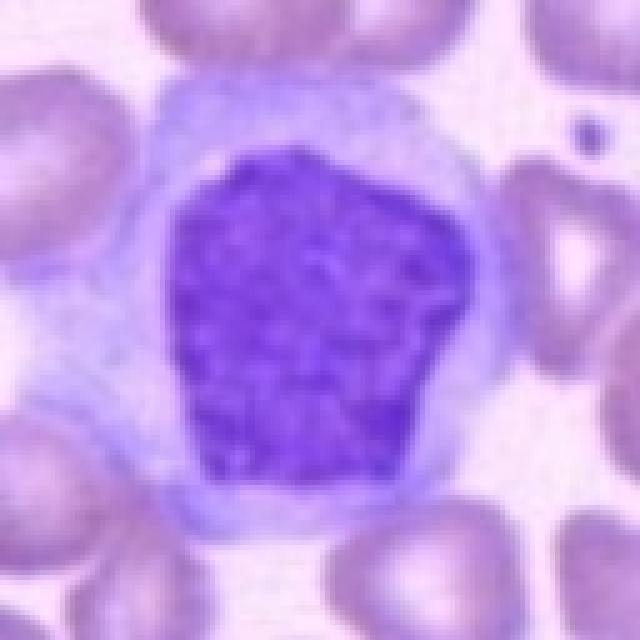lympho: (23, 31, 540, 548)
